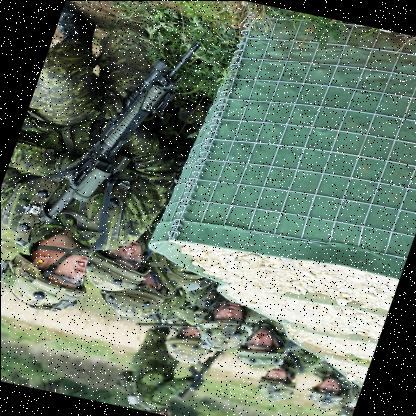rifle: (25, 13, 212, 235)
